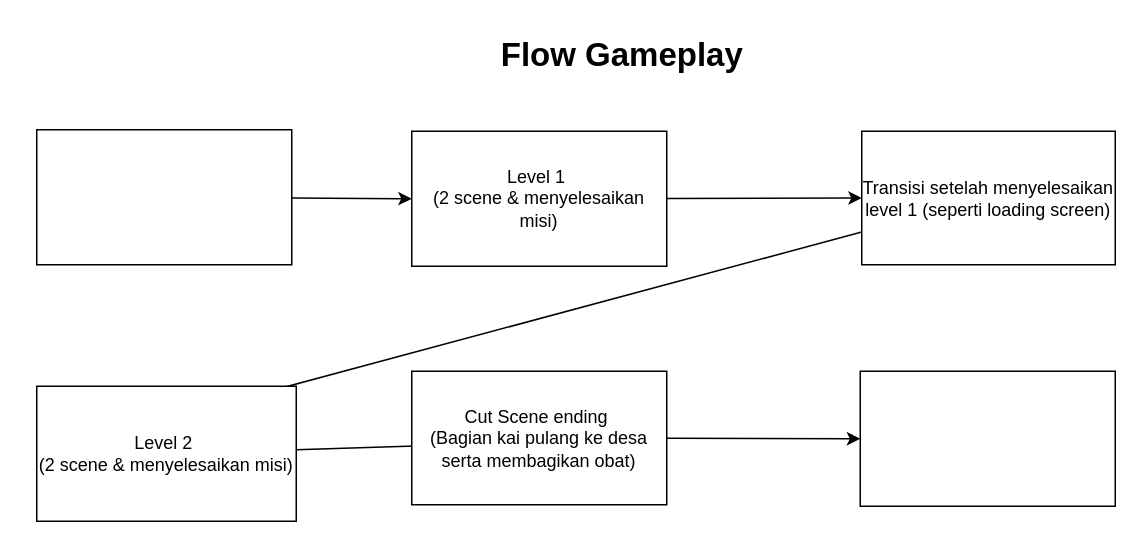
The diagram is 1142 pixels wide and 548 high, and some of its shapes have lost their labels. The shapes that lost their labels are listed below. From the top down, each one's box as (x1, y1, x2, y2) in pixels, then its label:
(35, 128, 292, 265): Cut scene Intro (ini sebagai back story karakter utama di desa nya)
(859, 370, 1115, 506): Kembali main menu
